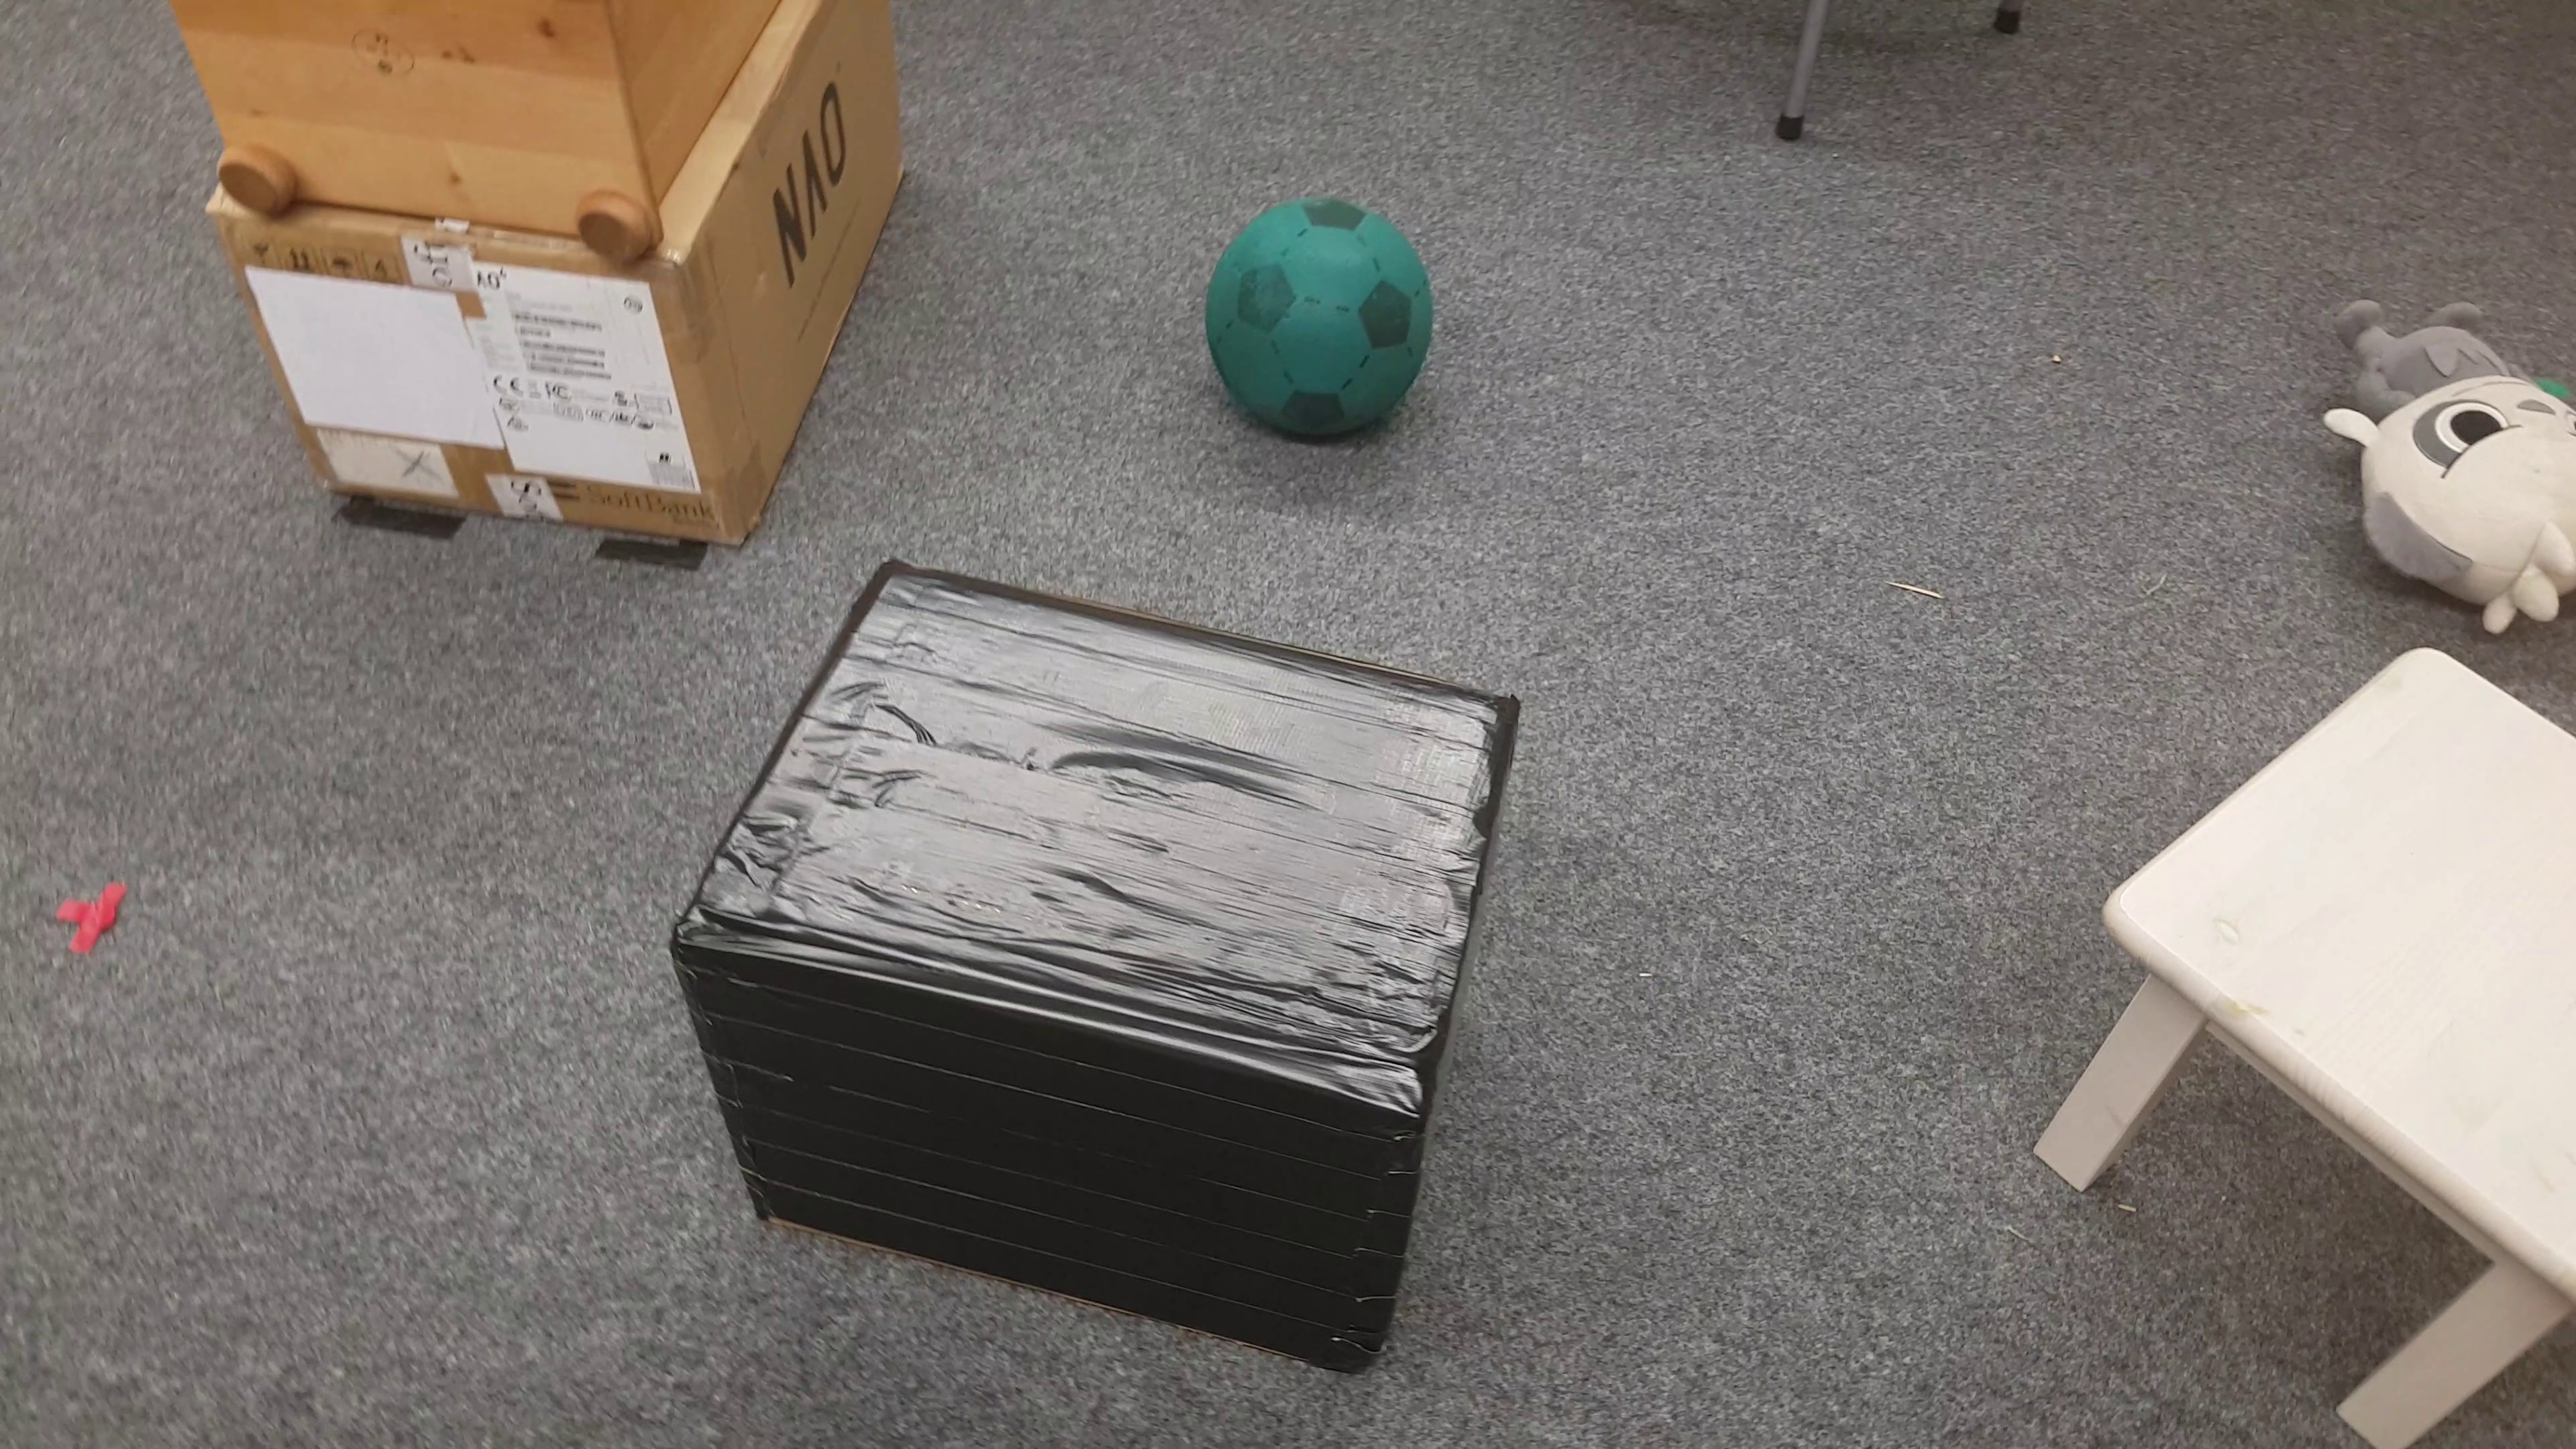grasp: (2319, 290, 2576, 632)
kick: (1205, 200, 1444, 444)
push: (679, 557, 1514, 1369)
